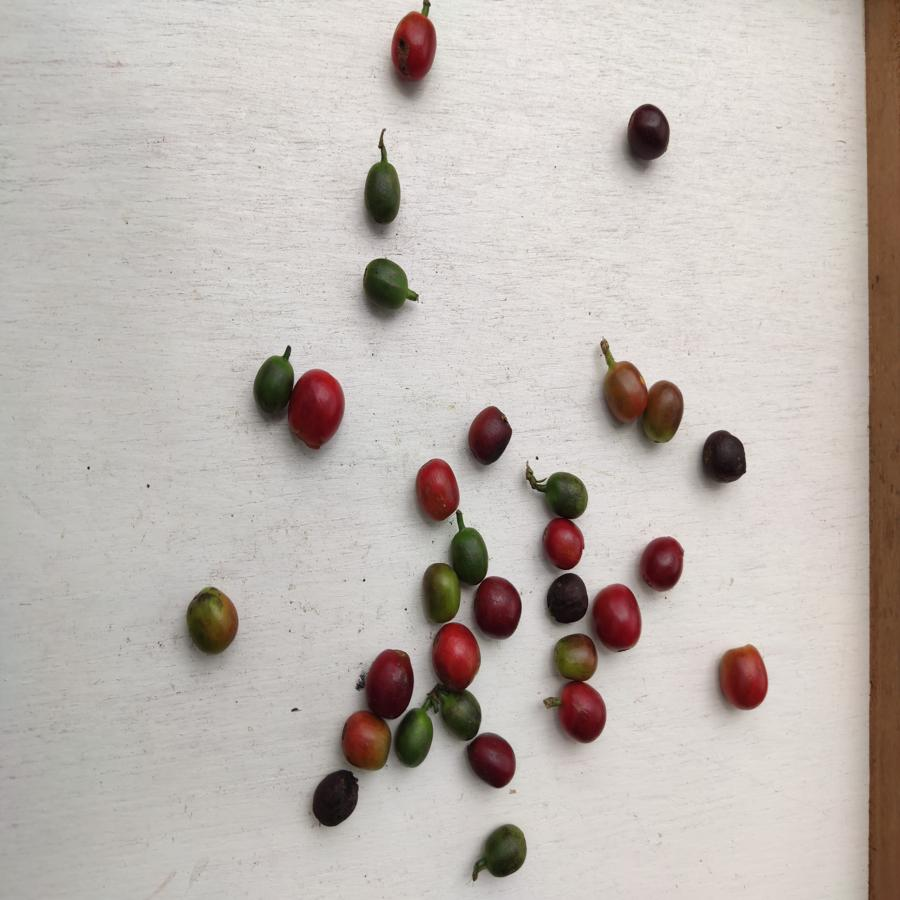Inmaduro: (359, 257, 410, 315), (393, 711, 437, 768), (253, 352, 292, 416), (482, 824, 528, 877), (452, 525, 491, 585), (547, 470, 594, 517), (365, 162, 401, 223), (437, 689, 480, 739)
Maduro: (291, 368, 345, 453), (390, 8, 442, 83), (592, 584, 642, 655), (719, 643, 771, 711), (436, 621, 485, 689), (415, 458, 464, 517), (561, 682, 610, 741), (541, 518, 592, 569)
Pinton: (186, 583, 239, 658), (597, 361, 650, 433), (340, 713, 391, 771), (638, 379, 683, 444), (550, 630, 603, 681), (422, 562, 462, 623)
Sobremaduro: (366, 647, 415, 715), (475, 576, 527, 638), (464, 731, 518, 789), (310, 769, 362, 828), (622, 101, 671, 162), (700, 428, 750, 484), (467, 406, 513, 465), (641, 534, 688, 591), (545, 573, 591, 625)
